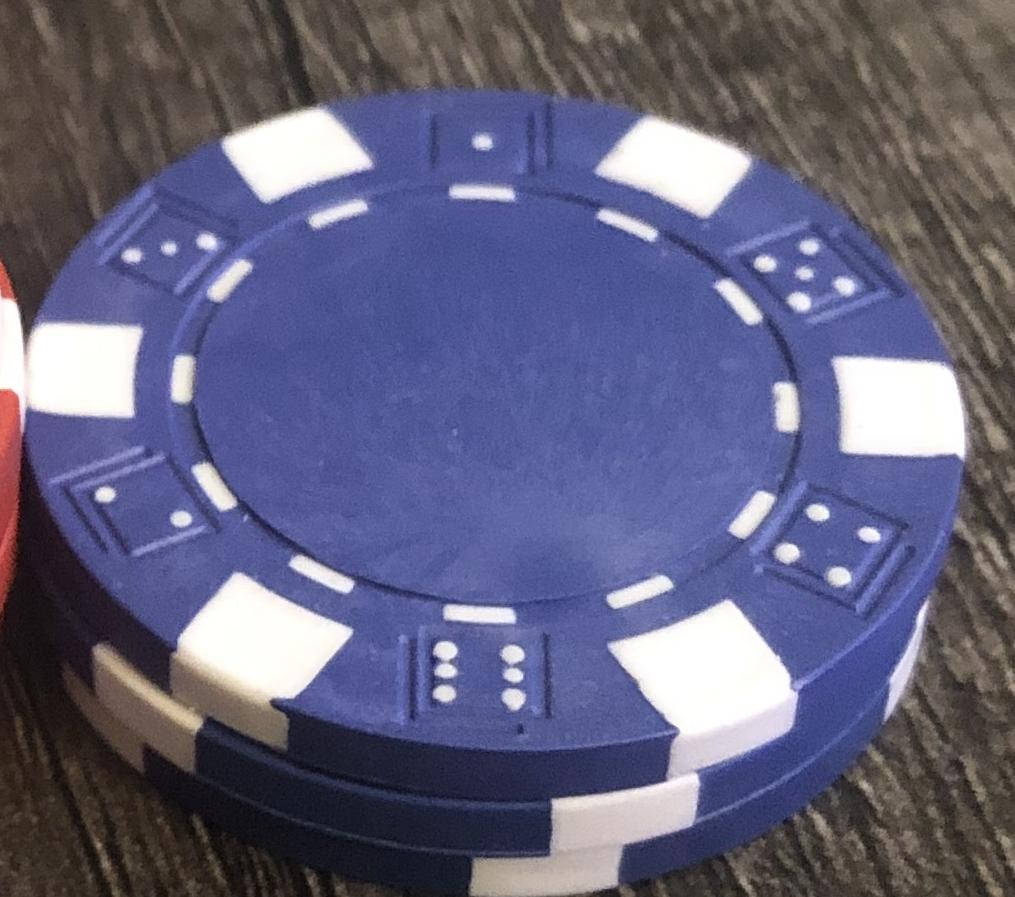Chip: (1, 1, 1015, 897)
